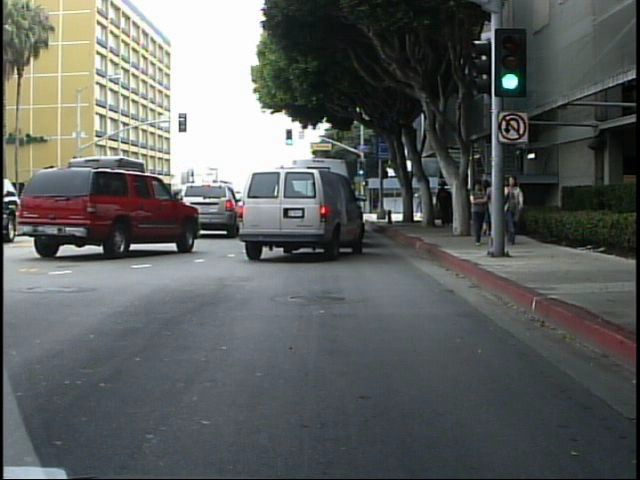person: (485, 173, 509, 250), (506, 172, 528, 245), (503, 170, 523, 249), (470, 174, 490, 244), (433, 175, 455, 230), (412, 185, 424, 217)
